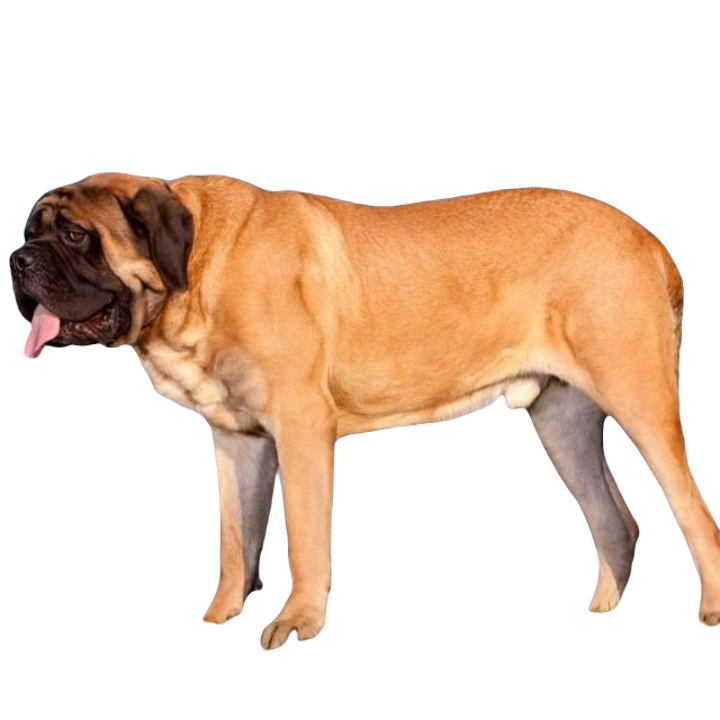Dog: (6, 172, 719, 648)
